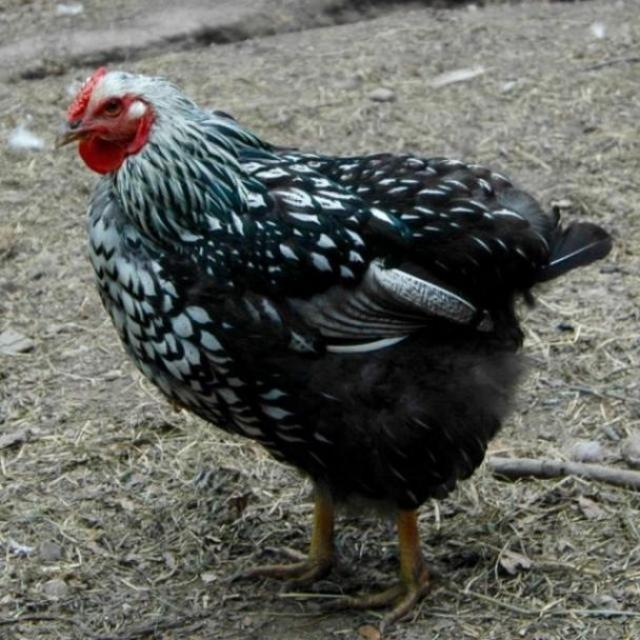Chicken: (69, 75, 622, 635)
